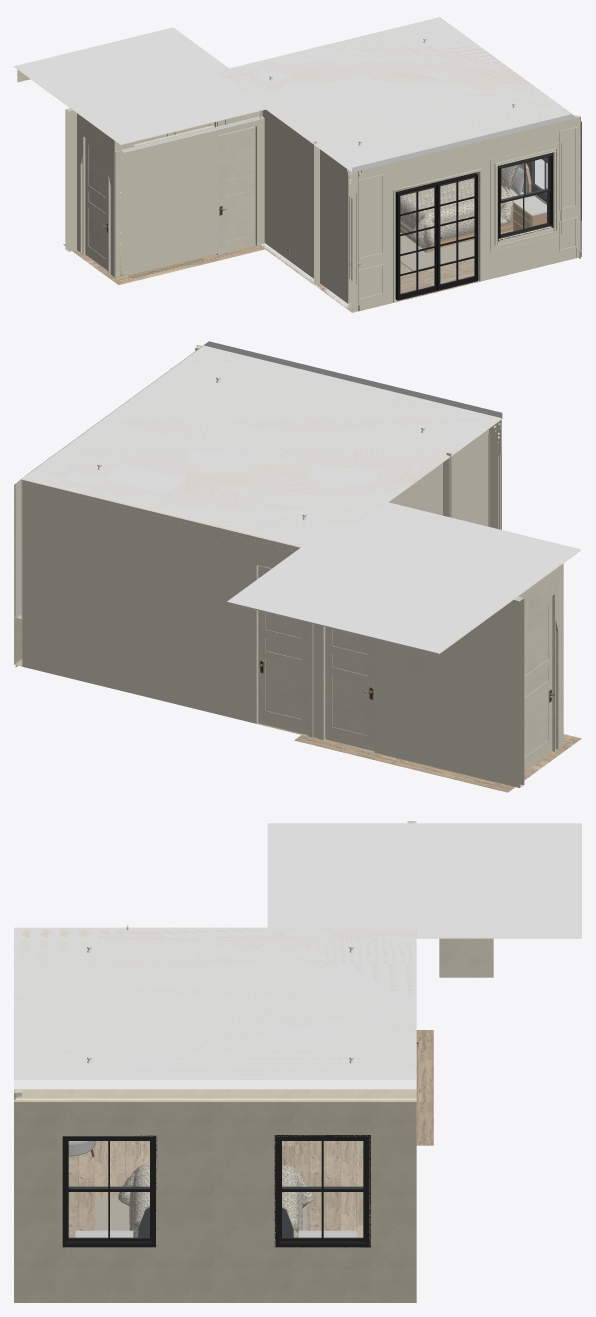
Rendered from primary-bedroom-618d16688e1b.glb.
3 views of the same model, one above another, from view 1: azimuth 30°, elevation 25°; view 2: azimuth 150°, elevation 25°; view 3: azimuth 270°, elevation 25° (orthographic). The views are drawn at different scales.
Parts seen in each view (by area): view 1: primary-bedroom-9d91b47435c6fb33, primary-bedroom-b0ade14315e4f1c3, primary-bedroom-look-9d91b47435c6fb33, primary-bedroom-look-9ecc0d558be1c706, primary-bedroom-e8793759323e04f0, primary-bedroom-fc6585fecfaf7ec3, primary-bedroom-look-18f70a4a9eda5dac, primary-bedroom-42fce09358828e49, primary-bedroom-d70d42a253f78e60, primary-bedroom-c791a0f218fead78, primary-bedroom-e1735639a83d20d7, primary-bedroom-b29583548b72a1ea (+17 smaller); view 2: primary-bedroom-9d91b47435c6fb33, primary-bedroom-21ac2ed1b4475155, primary-bedroom-look-9d91b47435c6fb33, primary-bedroom-e8793759323e04f0, primary-bedroom-look-21ac2ed1b4475155, primary-bedroom-b7a870a0f6b43c8c, primary-bedroom-look-6d601da8073fdc0e, primary-bedroom-look-6c54e09c161b5848, primary-bedroom-c791a0f218fead78, primary-bedroom-look-e48b5483df8cacdb, primary-bedroom-look-2575515a05775d9e, primary-bedroom-fc6585fecfaf7ec3 (+5 smaller); view 3: primary-bedroom-9d91b47435c6fb33, primary-bedroom-adb6f49a6d2cbec3, primary-bedroom-look-9d91b47435c6fb33, primary-bedroom-e8793759323e04f0, primary-bedroom-16d9002bc6318568, primary-bedroom-2575515a05775d9e, primary-bedroom-91f952a1d198b4a4, primary-bedroom-f5a37a5545b9d676, primary-bedroom-791abe15be22adf2, primary-bedroom-b29583548b72a1ea, primary-bedroom-look-95b94d4b81cfb474, primary-bedroom-look-2575515a05775d9e (+2 smaller).
Part boxes in pixels (x1,y1,x2,y2): primary-bedroom-9d91b47435c6fb33: [215, 17, 575, 172]; primary-bedroom-b0ade14315e4f1c3: [348, 116, 580, 312]; primary-bedroom-look-9d91b47435c6fb33: [14, 27, 265, 144]; primary-bedroom-look-9ecc0d558be1c706: [121, 117, 259, 276]; primary-bedroom-e8793759323e04f0: [218, 15, 575, 171]; primary-bedroom-fc6585fecfaf7ec3: [259, 109, 319, 284]; primary-bedroom-look-18f70a4a9eda5dac: [218, 126, 255, 253]; primary-bedroom-42fce09358828e49: [438, 174, 477, 290]; primary-bedroom-d70d42a253f78e60: [398, 184, 437, 300]; primary-bedroom-c791a0f218fead78: [314, 144, 358, 312]; primary-bedroom-e1735639a83d20d7: [498, 152, 553, 241]; primary-bedroom-b29583548b72a1ea: [400, 178, 513, 250]; primary-bedroom-9d91b47435c6fb33: [21, 345, 502, 551]; primary-bedroom-21ac2ed1b4475155: [22, 480, 320, 739]; primary-bedroom-look-9d91b47435c6fb33: [227, 502, 580, 654]; primary-bedroom-e8793759323e04f0: [22, 341, 502, 544]; primary-bedroom-look-21ac2ed1b4475155: [320, 596, 524, 787]; primary-bedroom-b7a870a0f6b43c8c: [258, 565, 307, 734]; primary-bedroom-look-6d601da8073fdc0e: [325, 627, 374, 750]; primary-bedroom-look-6c54e09c161b5848: [524, 592, 555, 771]; primary-bedroom-c791a0f218fead78: [443, 426, 491, 526]; primary-bedroom-look-e48b5483df8cacdb: [518, 563, 563, 749]; primary-bedroom-look-2575515a05775d9e: [294, 734, 581, 792]; primary-bedroom-fc6585fecfaf7ec3: [389, 459, 446, 515]; primary-bedroom-9d91b47435c6fb33: [14, 927, 416, 1089]; primary-bedroom-adb6f49a6d2cbec3: [14, 1100, 416, 1247]; primary-bedroom-look-9d91b47435c6fb33: [267, 823, 581, 938]; primary-bedroom-e8793759323e04f0: [14, 927, 416, 1088]; primary-bedroom-16d9002bc6318568: [15, 1248, 416, 1300]; primary-bedroom-2575515a05775d9e: [14, 1141, 416, 1302]; primary-bedroom-91f952a1d198b4a4: [274, 1135, 370, 1247]; primary-bedroom-f5a37a5545b9d676: [62, 1135, 157, 1247]; primary-bedroom-791abe15be22adf2: [14, 1089, 416, 1098]; primary-bedroom-b29583548b72a1ea: [118, 1165, 313, 1237]; primary-bedroom-look-95b94d4b81cfb474: [439, 938, 493, 977]; primary-bedroom-look-2575515a05775d9e: [416, 1030, 433, 1145].
Size of the model in its own units: 8.2 by 3.04 by 7.21.
Materials: 40 (7 with a texture image).
